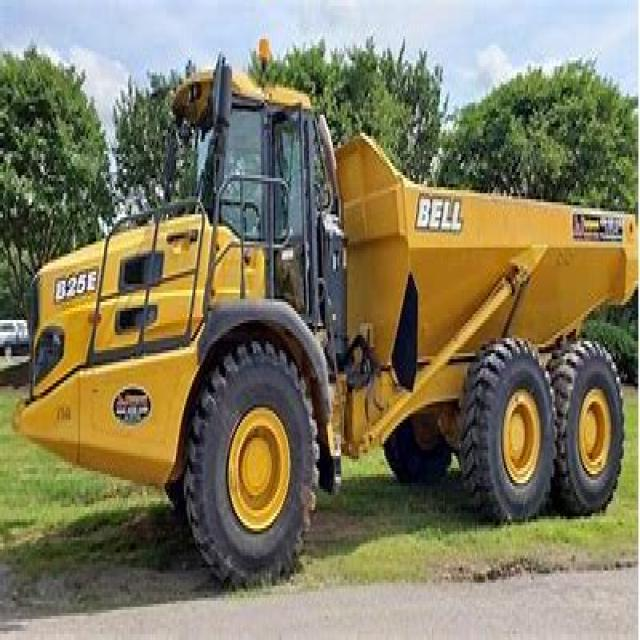dump_truck: (11, 33, 618, 589)
